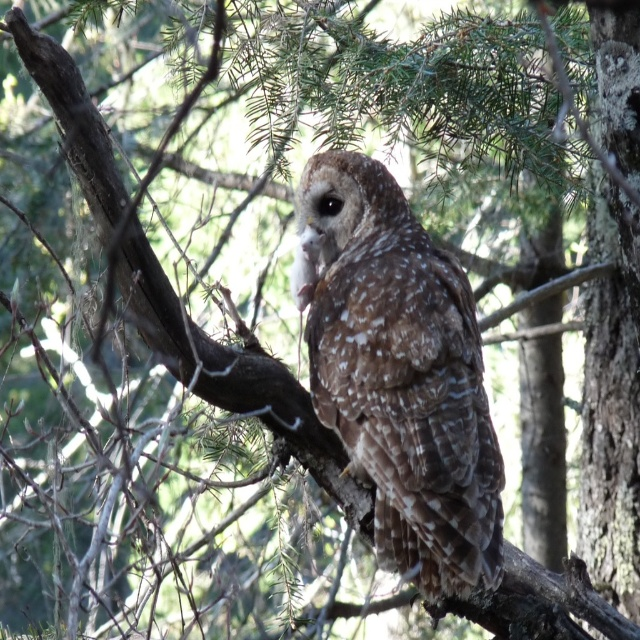Owl: (279, 139, 516, 596)
